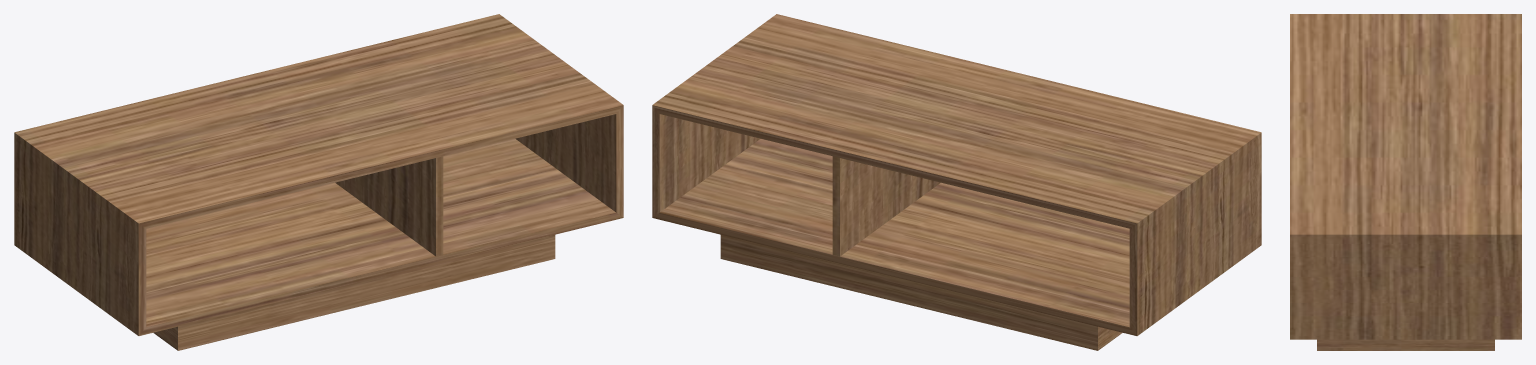
File: Oak Table.glb
3 views of the same model, side by side, from view 1: azimuth 30°, elevation 25°; view 2: azimuth 150°, elevation 25°; view 3: azimuth 270°, elevation 25° (orthographic). The views are drawn at different scales.
Visible parts, largest first — view 1: Cube_2; view 2: Cube_2; view 3: Cube_2.
Part boxes in pixels (x1,y1,x2,y2): Cube_2: [14, 14, 623, 350]; Cube_2: [652, 14, 1261, 350]; Cube_2: [1290, 14, 1521, 350].
Size of the model in its own units: 0.9 by 0.2682 by 0.4.
Materials: 1 (1 with a texture image).
